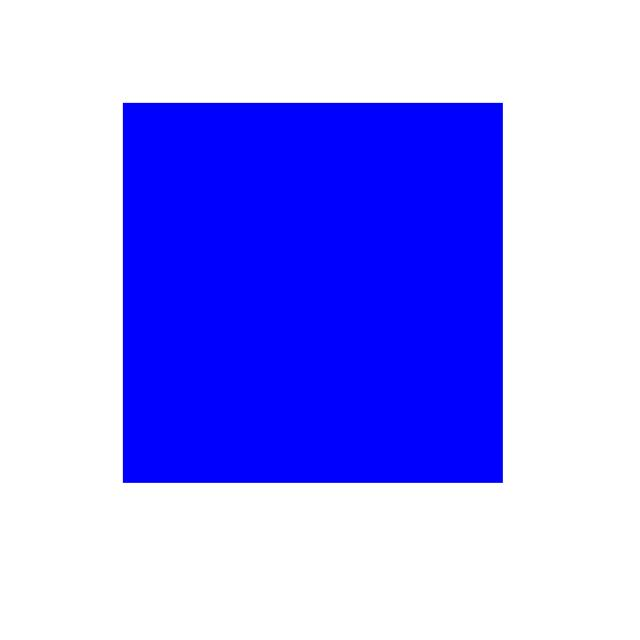square: (104, 86, 546, 496)
